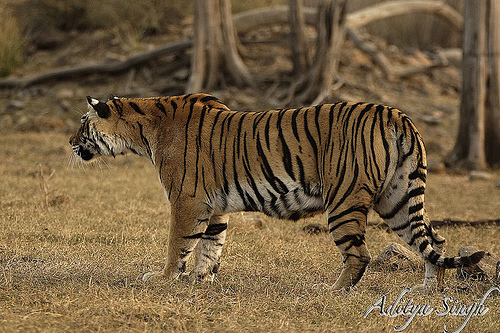Tigre: (53, 81, 461, 300)
